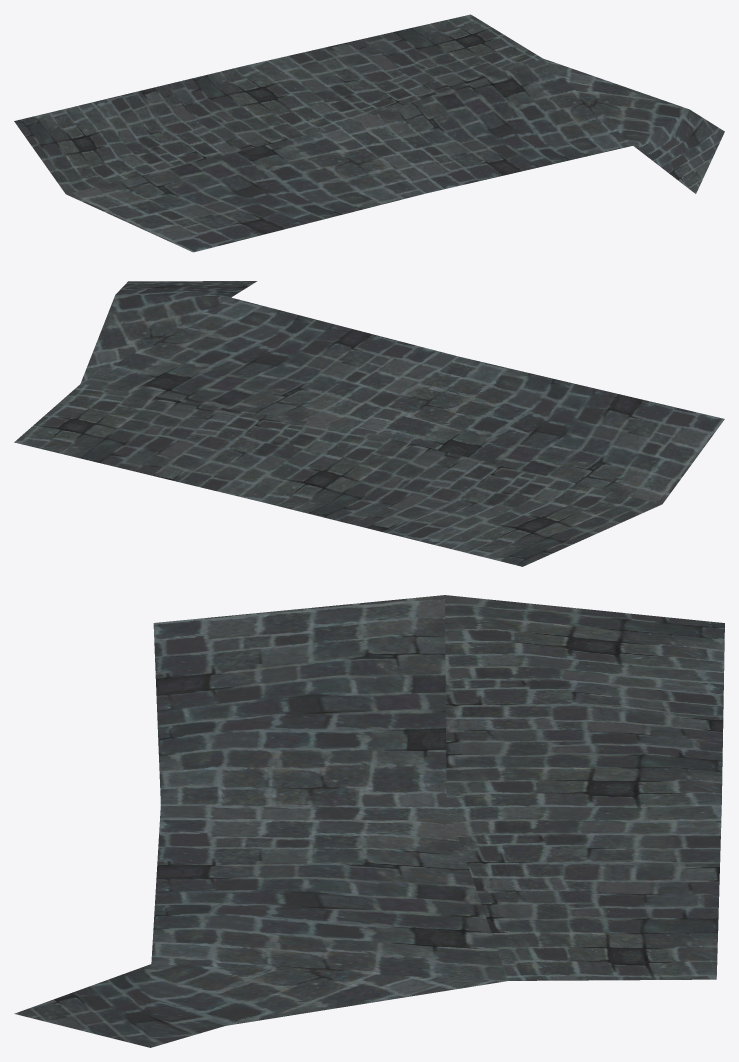
The model's file is blend_brick05.fbx.
The picture shows the model from 3 angles, top to bottom: view 1: azimuth 30°, elevation 25°; view 2: azimuth 150°, elevation 25°; view 3: azimuth 270°, elevation 25°; orthographic projection. The views are drawn at different scales.
Parts seen in each view (by area): view 1: obj0.004; view 2: obj0.004; view 3: obj0.004.
Boxes of the visible parts, x1,y1,x2,y2 form: obj0.004: (14,14,724,252); obj0.004: (14,281,724,566); obj0.004: (14,595,724,1047).
Size of the model in its own units: 10.5 by 0.3847 by 7.17.
